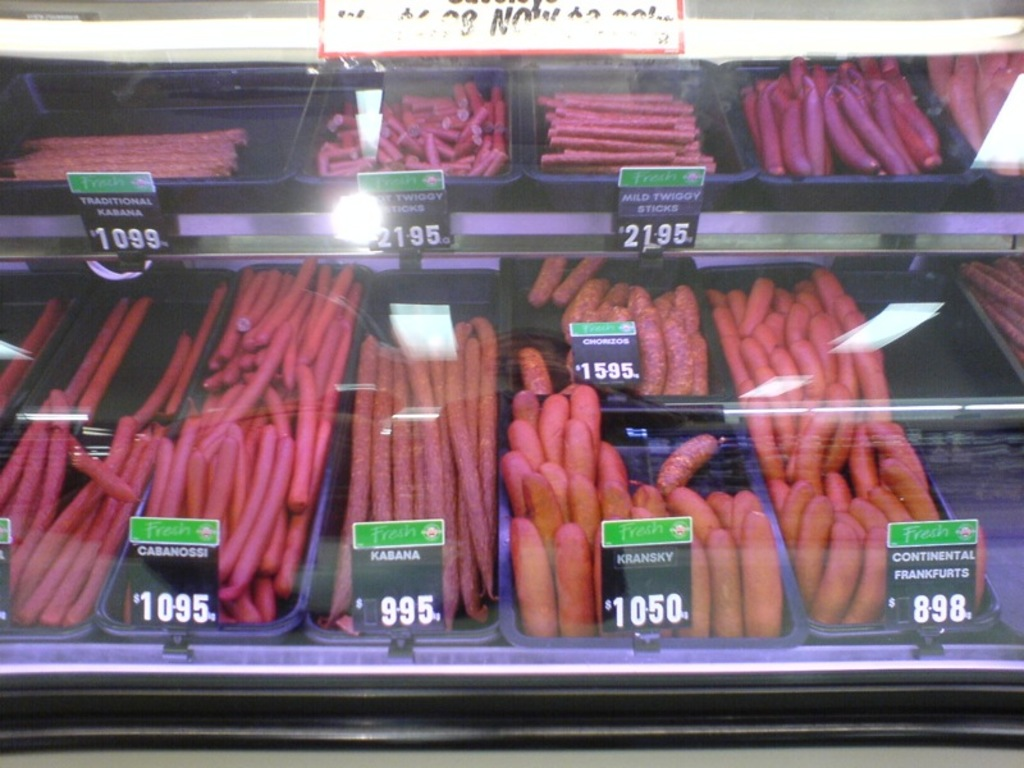Carrot: (510, 353, 625, 606)
